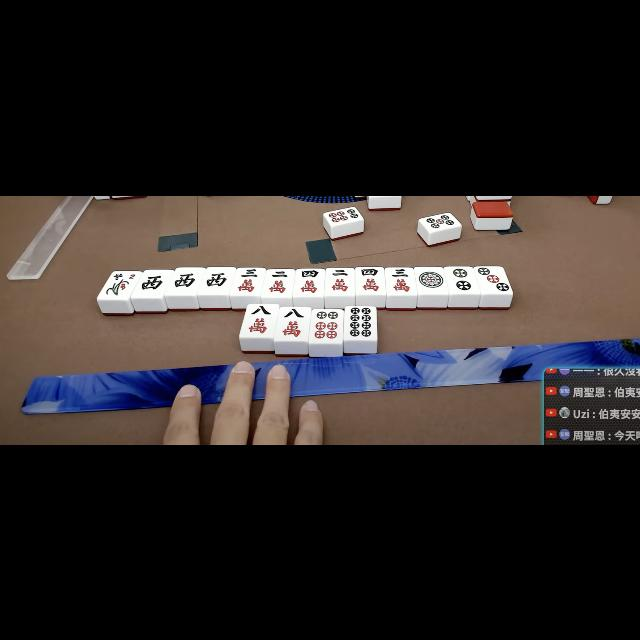c2: (264, 268, 294, 296), (326, 266, 354, 294)
c3: (386, 266, 416, 294), (234, 268, 262, 294)
c4: (356, 266, 384, 294), (295, 268, 323, 294)
c8: (276, 306, 308, 340), (244, 304, 276, 336)
d1: (417, 267, 448, 293)
d2: (447, 266, 477, 292)
d3: (476, 265, 512, 293)
d5: (422, 212, 458, 232)
d6: (312, 308, 342, 342), (327, 206, 361, 224)
d8: (345, 306, 375, 338)
f2: (109, 270, 139, 284)
ww: (168, 267, 200, 293), (136, 270, 168, 296), (201, 267, 231, 293)
